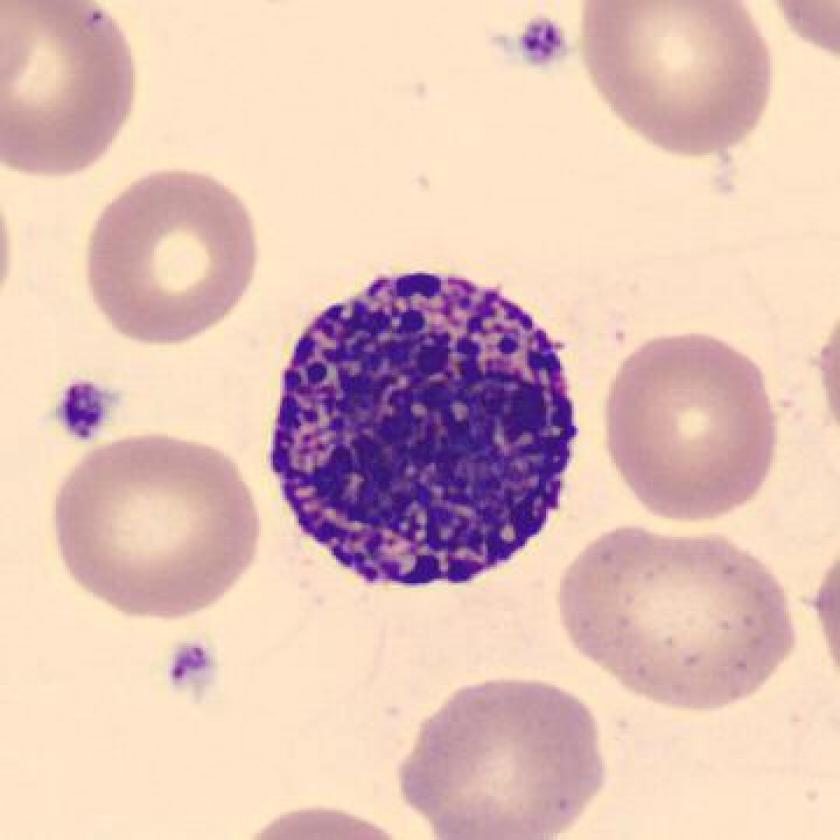basophil: (272, 253, 577, 584)
